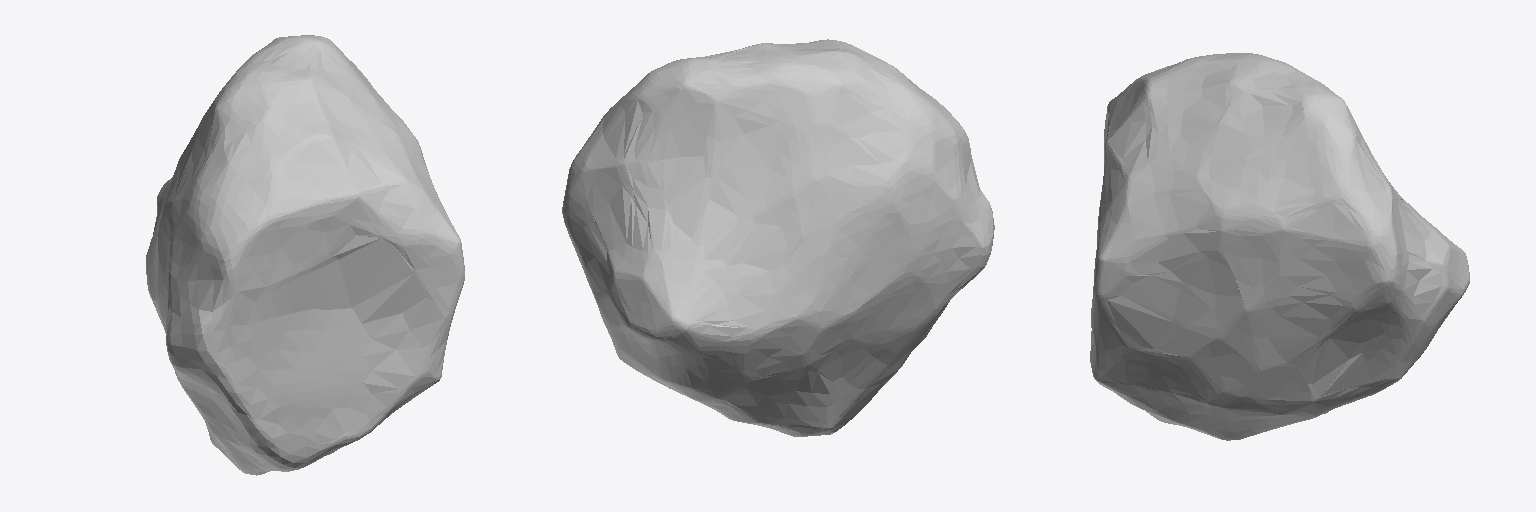
Rendered from stone.obj.
3 views of the same model, side by side, from view 1: azimuth 30°, elevation 25°; view 2: azimuth 150°, elevation 25°; view 3: azimuth 270°, elevation 25° (orthographic).
Visible parts, largest first — view 1: Icosphere; view 2: Icosphere; view 3: Icosphere.
Boxes of the visible parts, x1,y1,x2,y2 form: Icosphere: [146, 35, 464, 475]; Icosphere: [562, 39, 994, 436]; Icosphere: [1090, 53, 1469, 440].
Bounding box in the file's own units: 16.01 × 19.11 × 17.21.